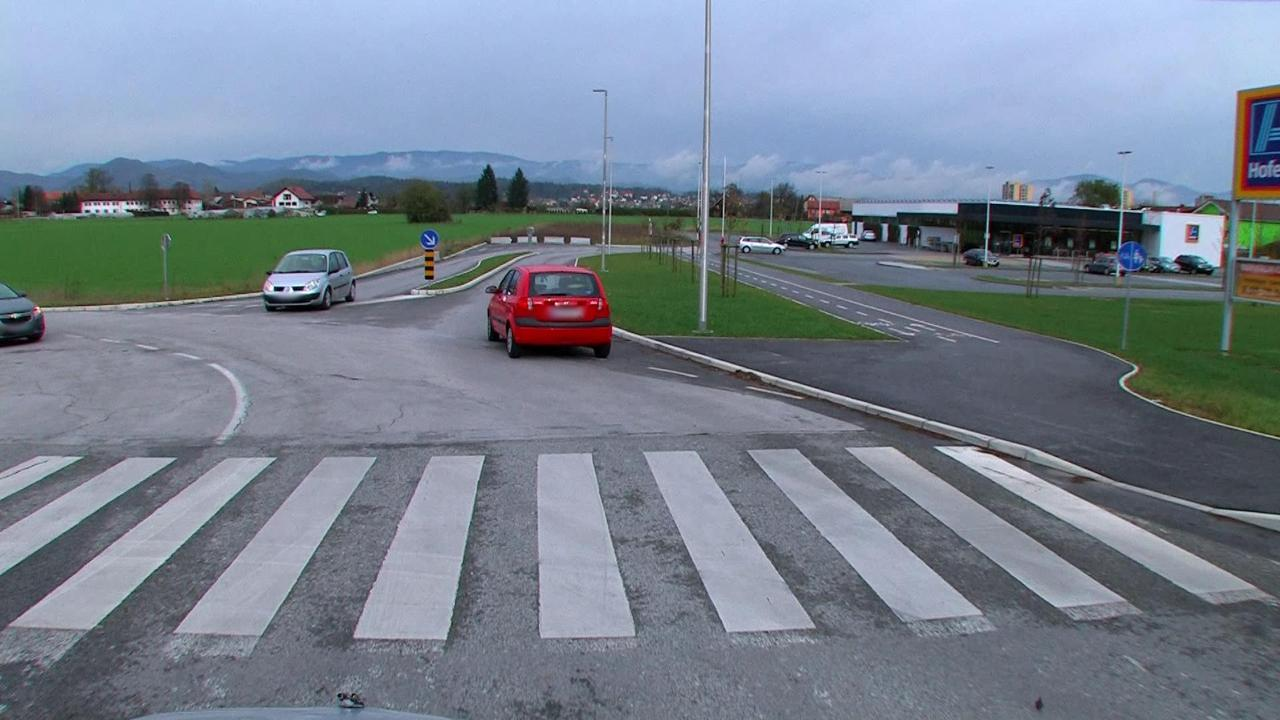Round: (1118, 242, 1146, 270), (422, 228, 440, 250)
